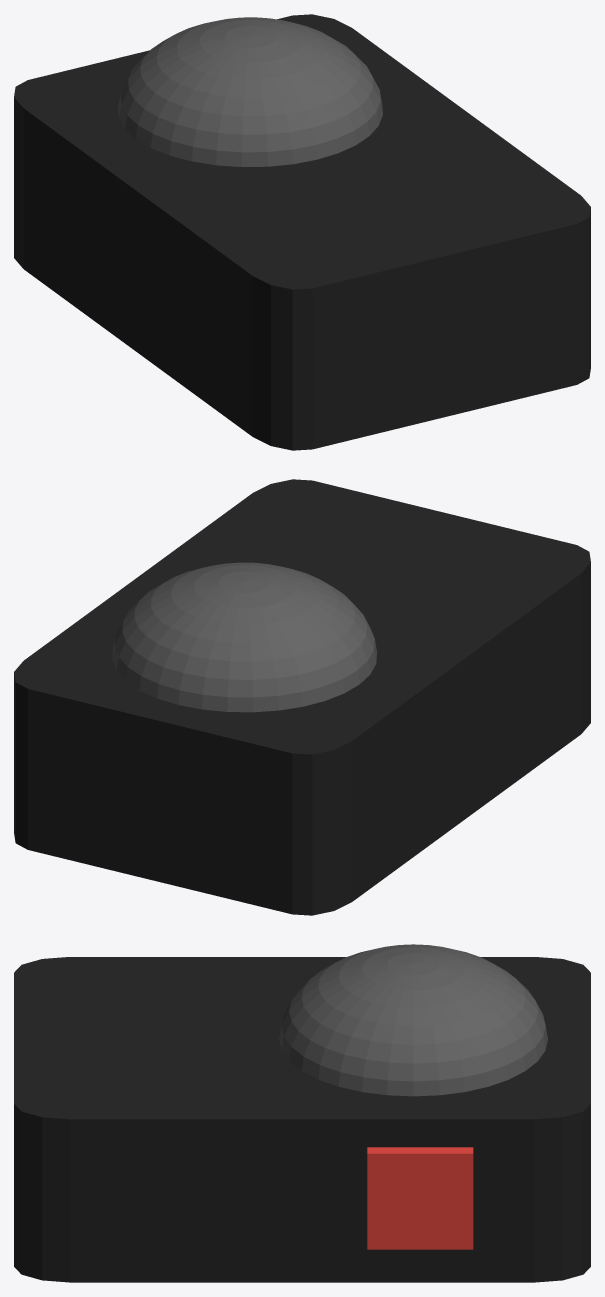
Rendered from flashlight.fbx.
3 views of the same model, one above another, from view 1: azimuth 30°, elevation 25°; view 2: azimuth 150°, elevation 25°; view 3: azimuth 270°, elevation 25° (orthographic).
Parts seen in each view (by area): view 1: Куб; view 2: Куб; view 3: Куб.
Part boxes in pixels (x1=…): Куб: x1=14, y1=14, x2=590, y2=450; Куб: x1=14, y1=479, x2=590, y2=915; Куб: x1=14, y1=944, x2=590, y2=1282.
Size of the model in its own units: 10.39 by 6.88 by 15.
